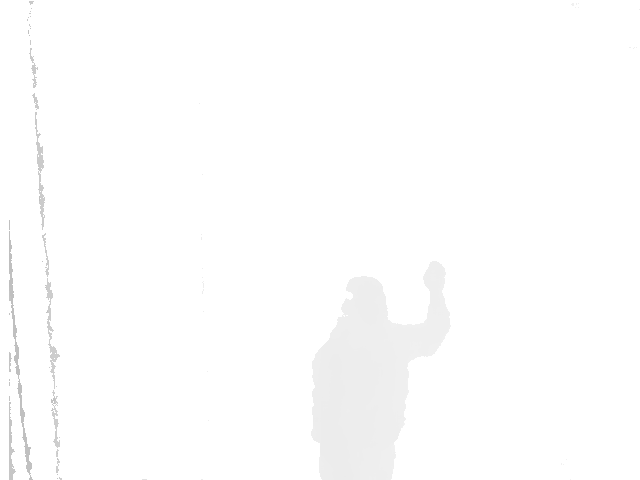hand: (422, 260, 446, 300)
head: (338, 274, 388, 323)
person: (311, 259, 450, 479)
